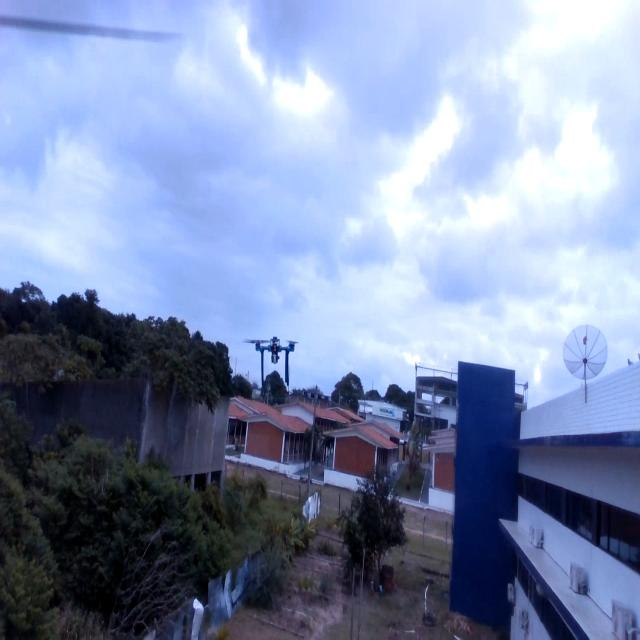-uav-: (242, 329, 304, 395)
